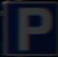Parking: (8, 6, 48, 51)
